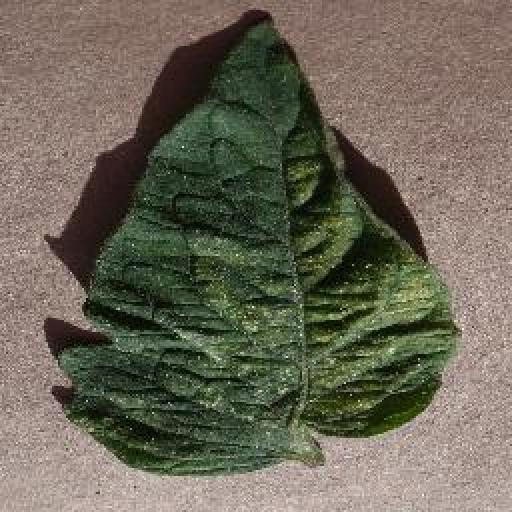disease_tomato: (58, 20, 464, 478)
